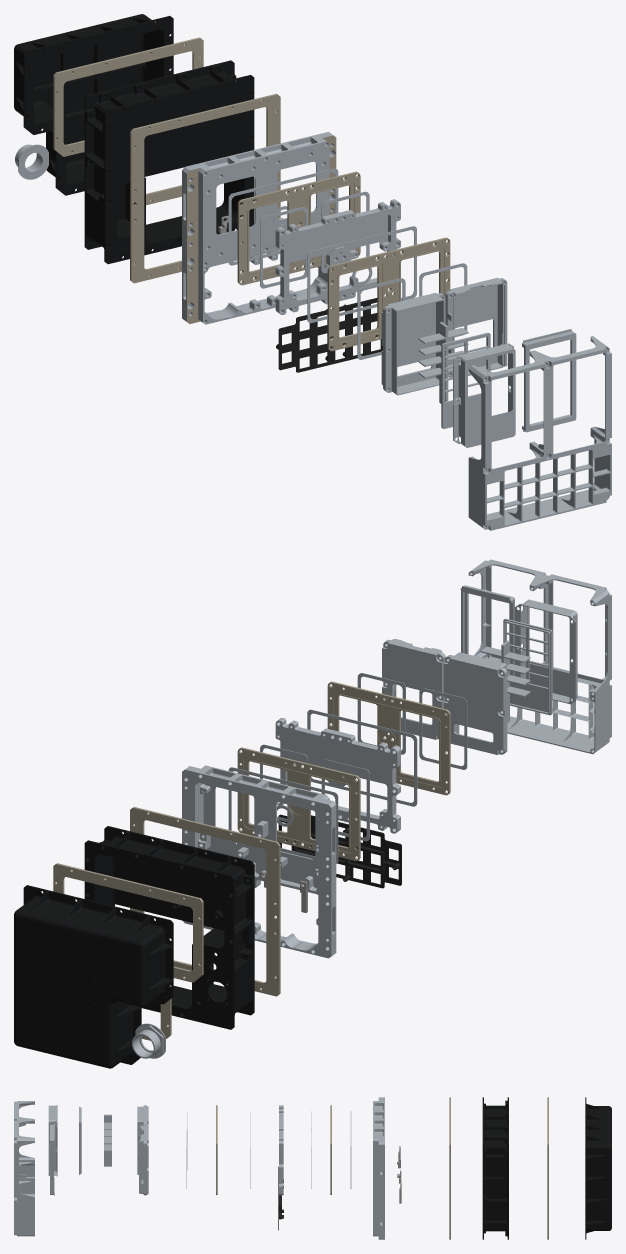
File: DSKY_Exploded.gltf
3 renders of one model, top to bottom at view 1: azimuth 30°, elevation 25°; view 2: azimuth 150°, elevation 25°; view 3: azimuth 270°, elevation 25°, orthographic. The views are drawn at different scales.
Visible parts, largest first — view 1: 2004705A (Intermediate Enclosure), 2004968E (Base Mountplate), 2004900A (Bottom Enclosure), 2004739A-021 (Top Cover) (4.3" Mod), 2004919E (Intermediate Display Support), DSKYIntermediateGasket, 1006387D (Annunciator Enclosure), 1006315A (Gasket Plate)_2, 1006315A (Gasket Plate)_1, DSKYRearGasket, 1006315G (Nextion Display Enclosure 4.3 in.), 2004699A-000 (Outer Annunciator Cover) (+7 smaller); view 2: 2004900A (Bottom Enclosure), 2004705A (Intermediate Enclosure), 2004968E (Base Mountplate), 2004739A-021 (Top Cover) (4.3" Mod), 2004919E (Intermediate Display Support), 1006387D (Annunciator Enclosure), 1006315A (Gasket Plate)_1, DSKYIntermediateGasket, 1006315A (Gasket Plate)_2, 1006315G (Nextion Display Enclosure 4.3 in.), DSKYRearGasket, 2004699A-000 (Outer Annunciator Cover) (+8 smaller); view 3: 2004705A (Intermediate Enclosure), 2004900A (Bottom Enclosure), 2004739A-021 (Top Cover) (4.3" Mod), 2004968E (Base Mountplate), 1006315G (Nextion Display Enclosure 4.3 in.), 2004699A-000 (Outer Annunciator Cover), 2004919E (Intermediate Display Support), Led_splitter, 1006387D (Annunciator Enclosure), Nextion 4.3 Faceplate MK.2, DSKYIntermediateGasket, DSKYRearGasket.
Boxes of the visible parts, x1=… form: 2004705A (Intermediate Enclosure): x1=84, y1=60, x2=254, y2=264; 2004968E (Base Mountplate): x1=182, y1=132, x2=336, y2=324; 2004900A (Bottom Enclosure): x1=14, y1=14, x2=173, y2=195; 2004739A-021 (Top Cover) (4.3" Mod): x1=468, y1=336, x2=611, y2=530; 2004919E (Intermediate Display Support): x1=275, y1=199, x2=400, y2=314; DSKYIntermediateGasket: x1=130, y1=93, x2=280, y2=283; 1006387D (Annunciator Enclosure): x1=381, y1=292, x2=445, y2=395; 1006315A (Gasket Plate)_2: x1=327, y1=237, x2=450, y2=351; 1006315A (Gasket Plate)_1: x1=237, y1=171, x2=360, y2=285; DSKYRearGasket: x1=53, y1=37, x2=203, y2=205; 1006315G (Nextion Display Enclosure 4.3 in.): x1=445, y1=277, x2=507, y2=377; 2004699A-000 (Outer Annunciator Cover): x1=453, y1=343, x2=515, y2=447; 2004900A (Bottom Enclosure): x1=14, y1=885, x2=173, y2=1068; 2004705A (Intermediate Enclosure): x1=84, y1=826, x2=254, y2=1029; 2004968E (Base Mountplate): x1=182, y1=765, x2=336, y2=958; 2004739A-021 (Top Cover) (4.3" Mod): x1=468, y1=559, x2=611, y2=754; 2004919E (Intermediate Display Support): x1=275, y1=718, x2=400, y2=833; 1006387D (Annunciator Enclosure): x1=443, y1=652, x2=507, y2=754; 1006315A (Gasket Plate)_1: x1=237, y1=747, x2=360, y2=861; DSKYIntermediateGasket: x1=130, y1=807, x2=280, y2=996; 1006315A (Gasket Plate)_2: x1=327, y1=681, x2=450, y2=795; 1006315G (Nextion Display Enclosure 4.3 in.): x1=382, y1=639, x2=445, y2=739; DSKYRearGasket: x1=53, y1=863, x2=203, y2=1040; 2004699A-000 (Outer Annunciator Cover): x1=514, y1=599, x2=577, y2=704; 2004705A (Intermediate Enclosure): x1=482, y1=1097, x2=508, y2=1239; 2004900A (Bottom Enclosure): x1=585, y1=1097, x2=611, y2=1239; 2004739A-021 (Top Cover) (4.3" Mod): x1=14, y1=1101, x2=34, y2=1236; 2004968E (Base Mountplate): x1=373, y1=1097, x2=384, y2=1239; 1006315G (Nextion Display Enclosure 4.3 in.): x1=139, y1=1124, x2=148, y2=1195; 2004699A-000 (Outer Annunciator Cover): x1=48, y1=1105, x2=57, y2=1176; 2004919E (Intermediate Display Support): x1=279, y1=1105, x2=283, y2=1195; Led_splitter: x1=104, y1=1114, x2=111, y2=1166; 1006387D (Annunciator Enclosure): x1=137, y1=1105, x2=148, y2=1174; Nextion 4.3 Faceplate MK.2: x1=50, y1=1123, x2=54, y2=1195; DSKYIntermediateGasket: x1=449, y1=1097, x2=450, y2=1239; DSKYRearGasket: x1=547, y1=1097, x2=548, y2=1239.
Size of the model in its own units: 0.2065 by 0.2033 by 1.13.
